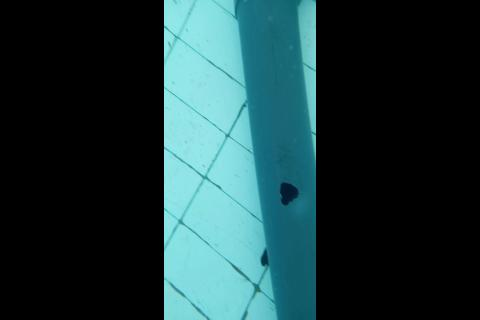kebocoran: (279, 181, 299, 206)
